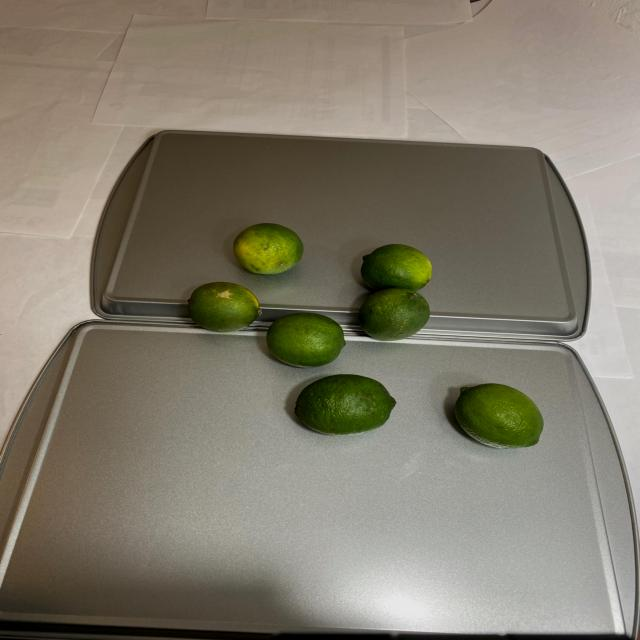lemon: (187, 219, 547, 458)
